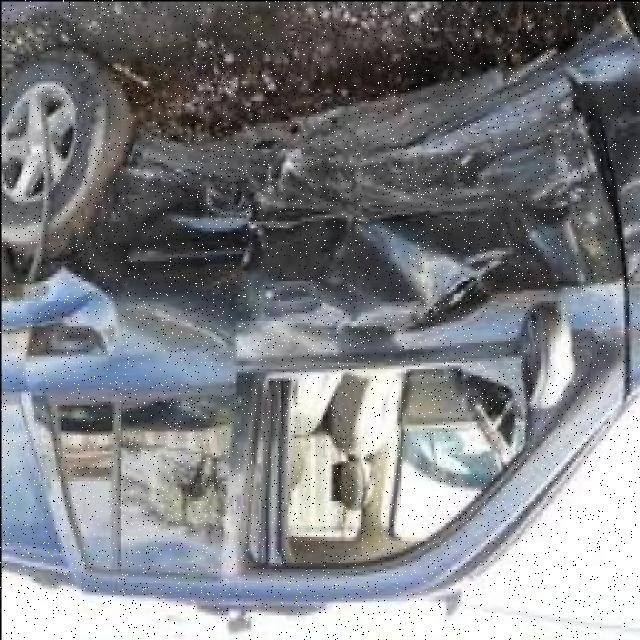damage: (26, 7, 639, 371)
